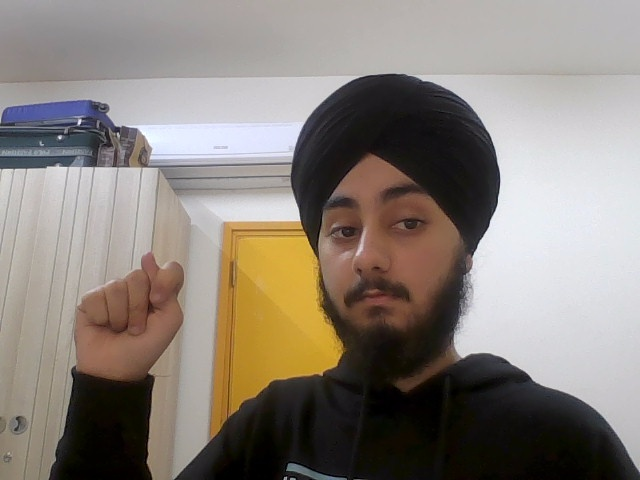Bathroom: (73, 249, 186, 370)
